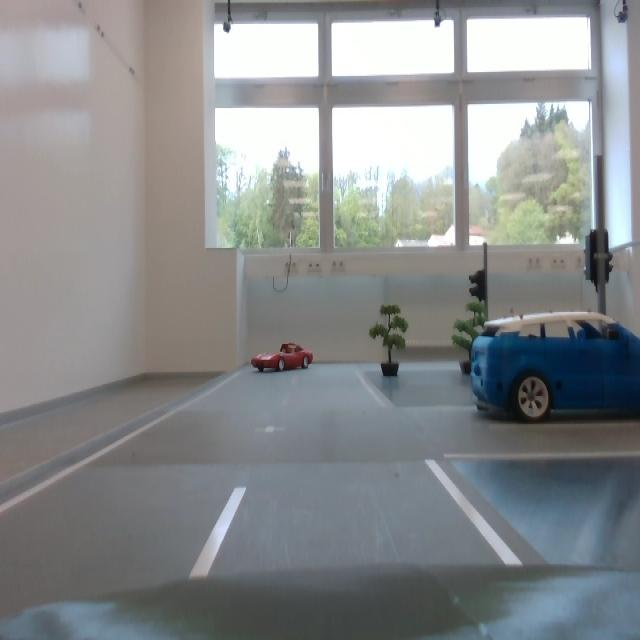car: (465, 307, 640, 433), (241, 337, 319, 383)
potted plant: (366, 296, 414, 362), (452, 299, 494, 363)
traffic light: (584, 228, 617, 294), (465, 261, 492, 311)
